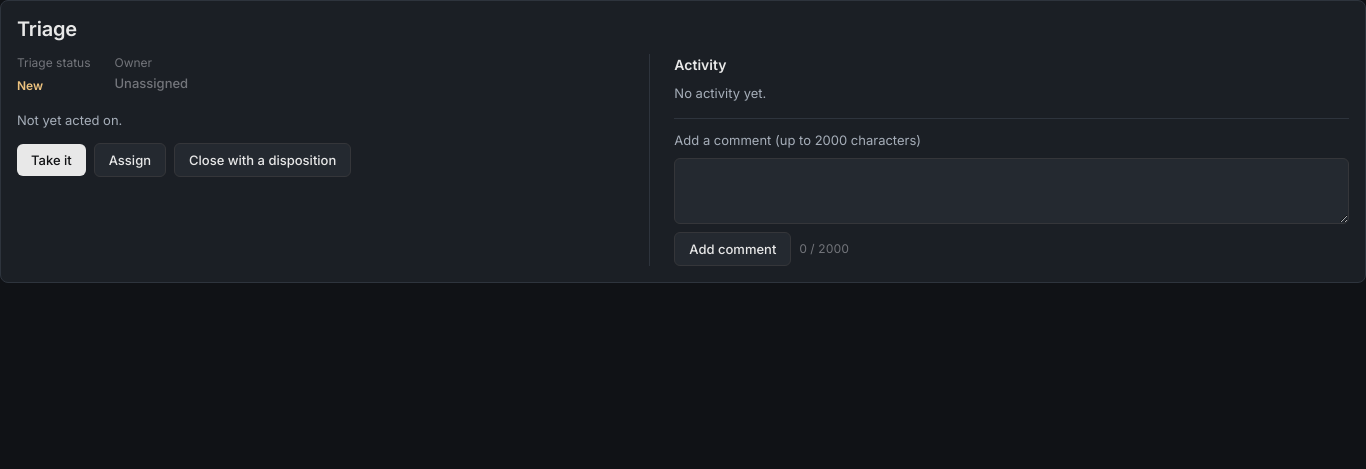
it: close with a disposition › closes the dialog on Escape and gives focus back to its button
Click the button "Close with a disposition" at (263, 160), box [174,143,351,177]
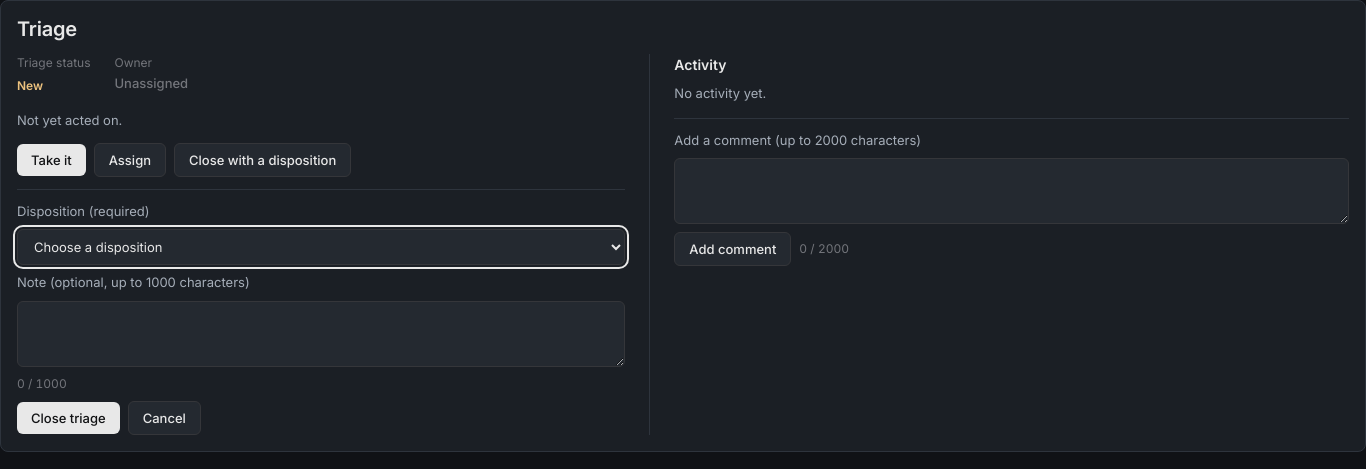
Press Escape
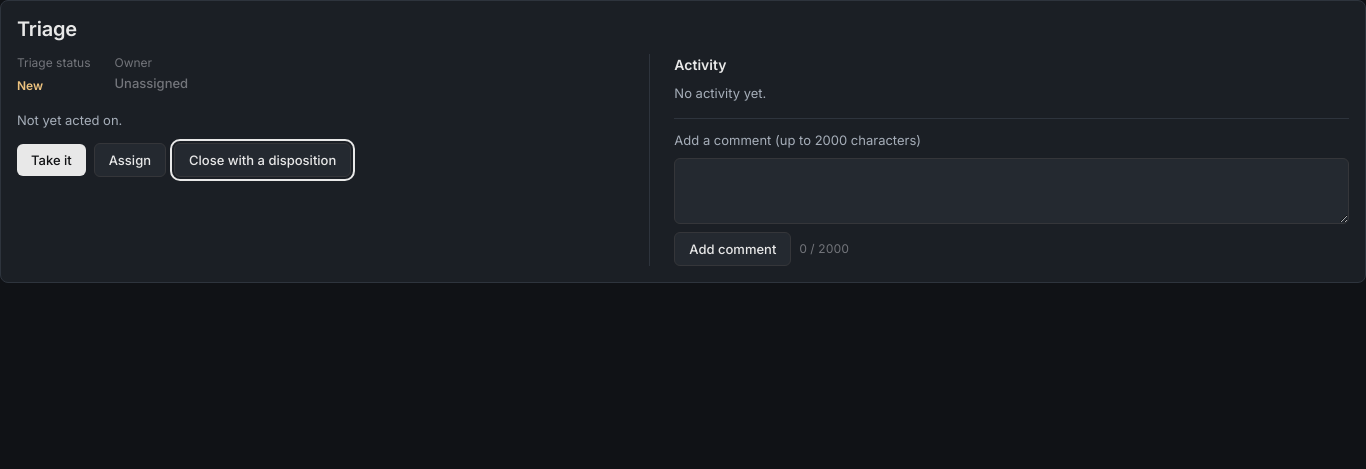
Result: the label labelled "Disposition (required)" is gone
